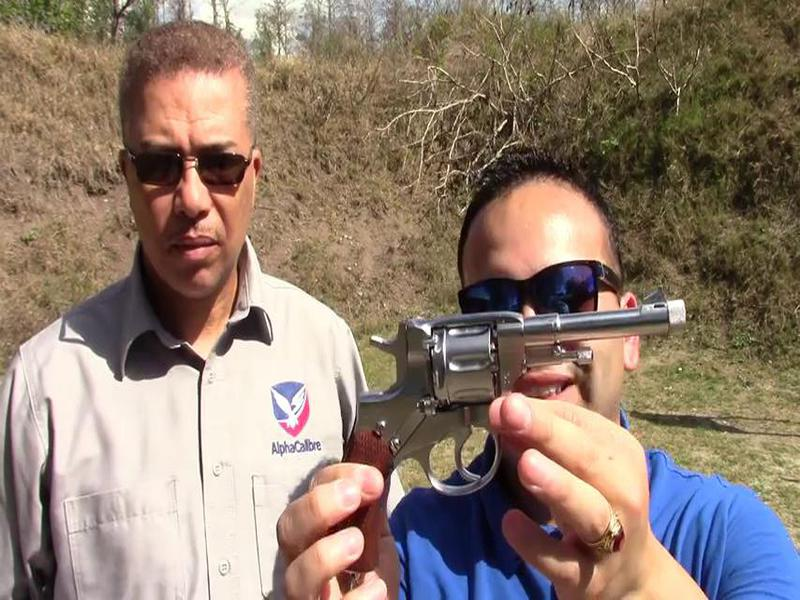Revolver: (322, 298, 693, 511)
